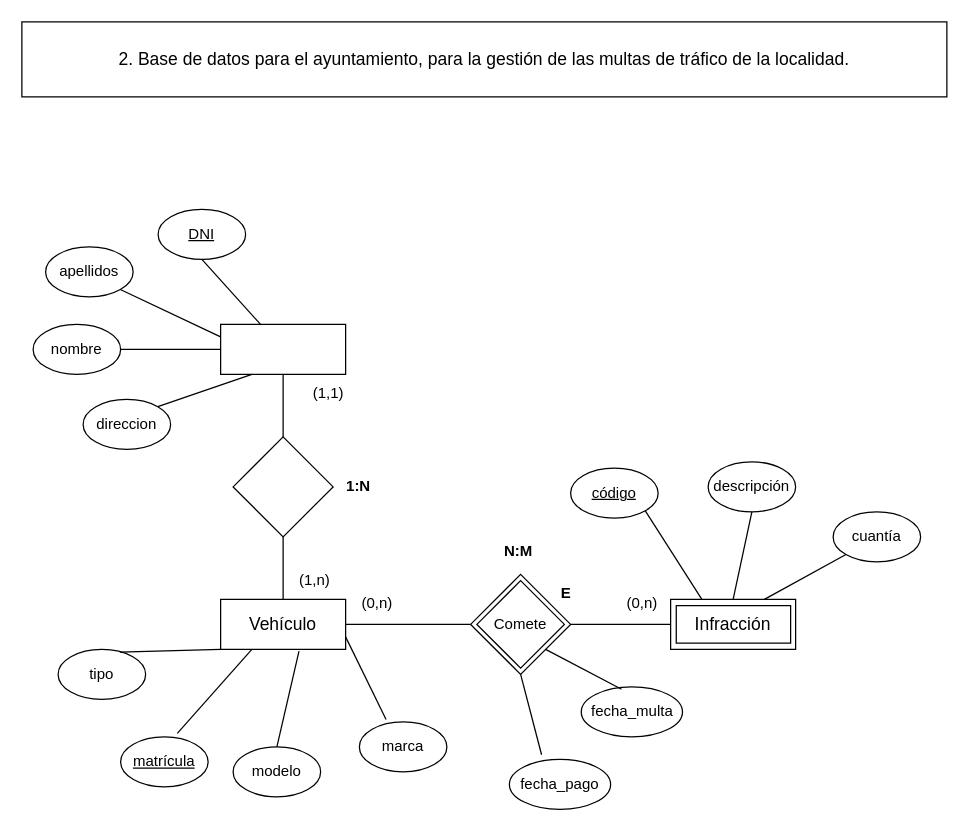
This 969x831 diagram has some shape labels left out. The shapes that lost their labels are listed below. From the top down, each one's centre as x and y in pixels, then its label:
At (x=282, y=348): "Propietario".
At (x=282, y=486): "Tiene".
